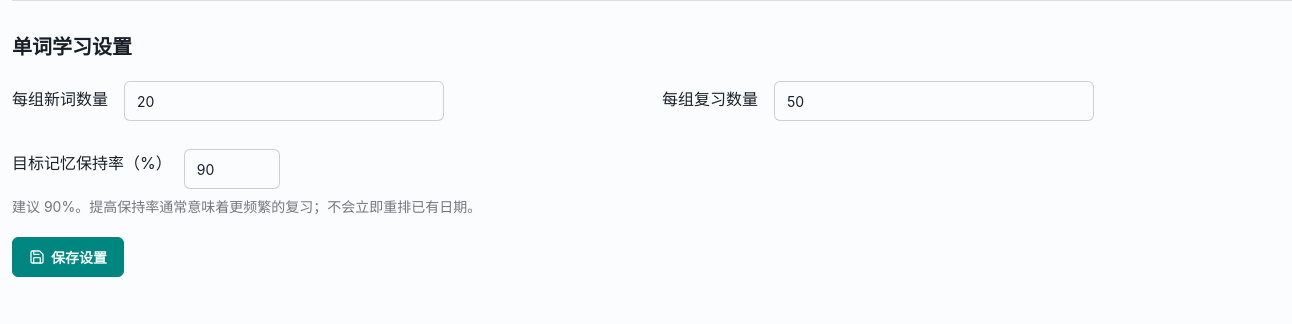
Scenario: WordStudySettingsPanel › loads and saves separate learning and review group sizes
The image size is (1292, 324).
expect the number field labelled "每组复习数量" holds "50": met, box x1=774 y1=81 x2=1094 y2=121
Step 1. Replace the text in the number field labelled "每组新词数量" with "30" → (284, 101), box x1=124 y1=81 x2=444 y2=121
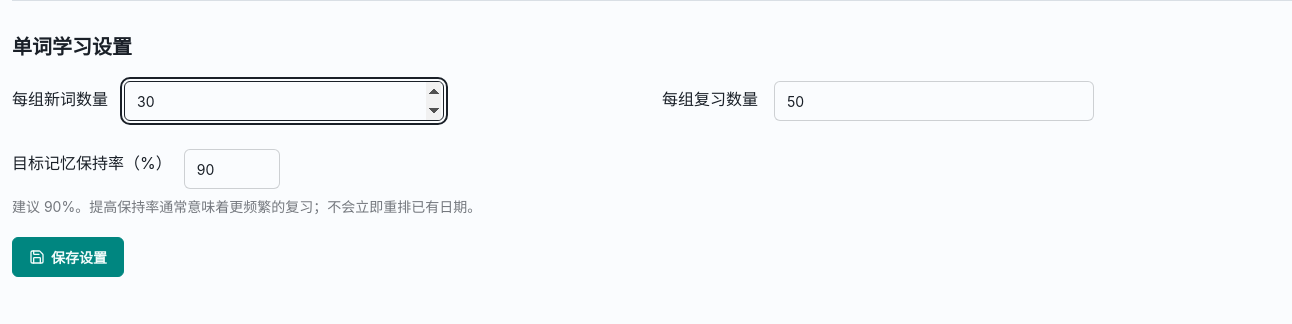
Step 2. Replace the text in the number field labelled "每组复习数量" with "80" → (934, 101), box x1=774 y1=81 x2=1094 y2=121
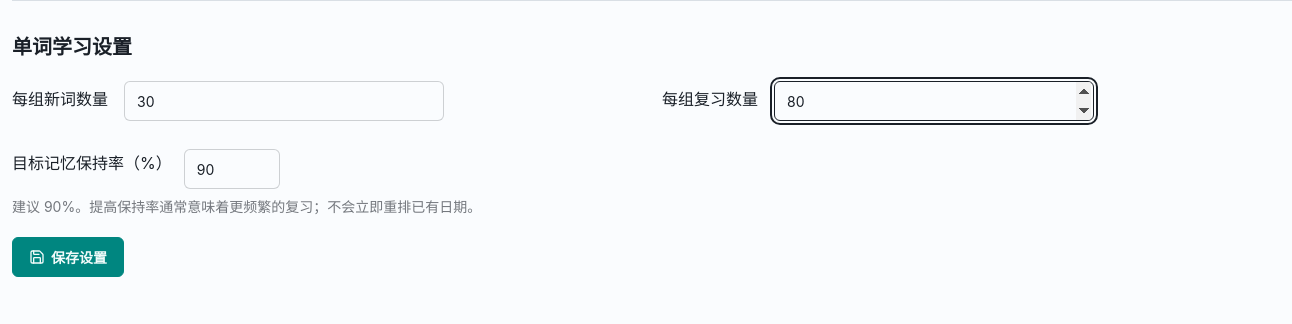
Step 3. Click the button "保存设置" → (68, 257), box x1=12 y1=237 x2=124 y2=277
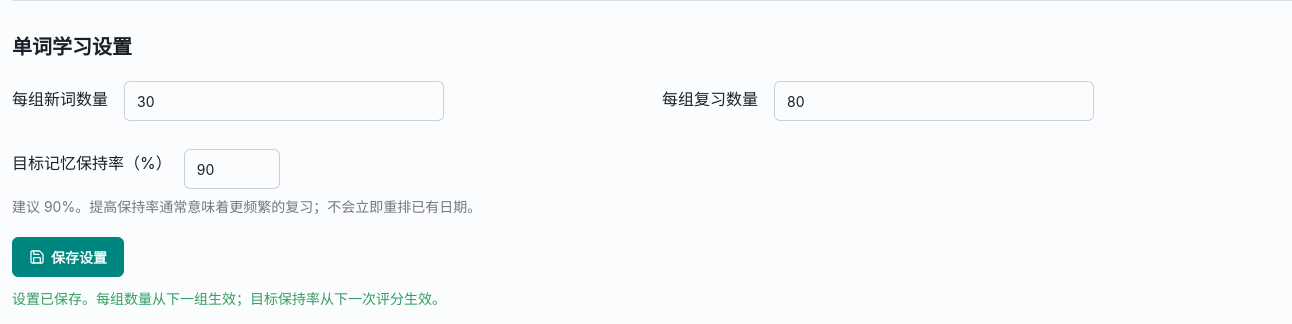
expect the text "设置已保存。每组数量从下一组生效；目标保持率从下一次评分生效。" is shown: met, box x1=12 y1=290 x2=446 y2=307
